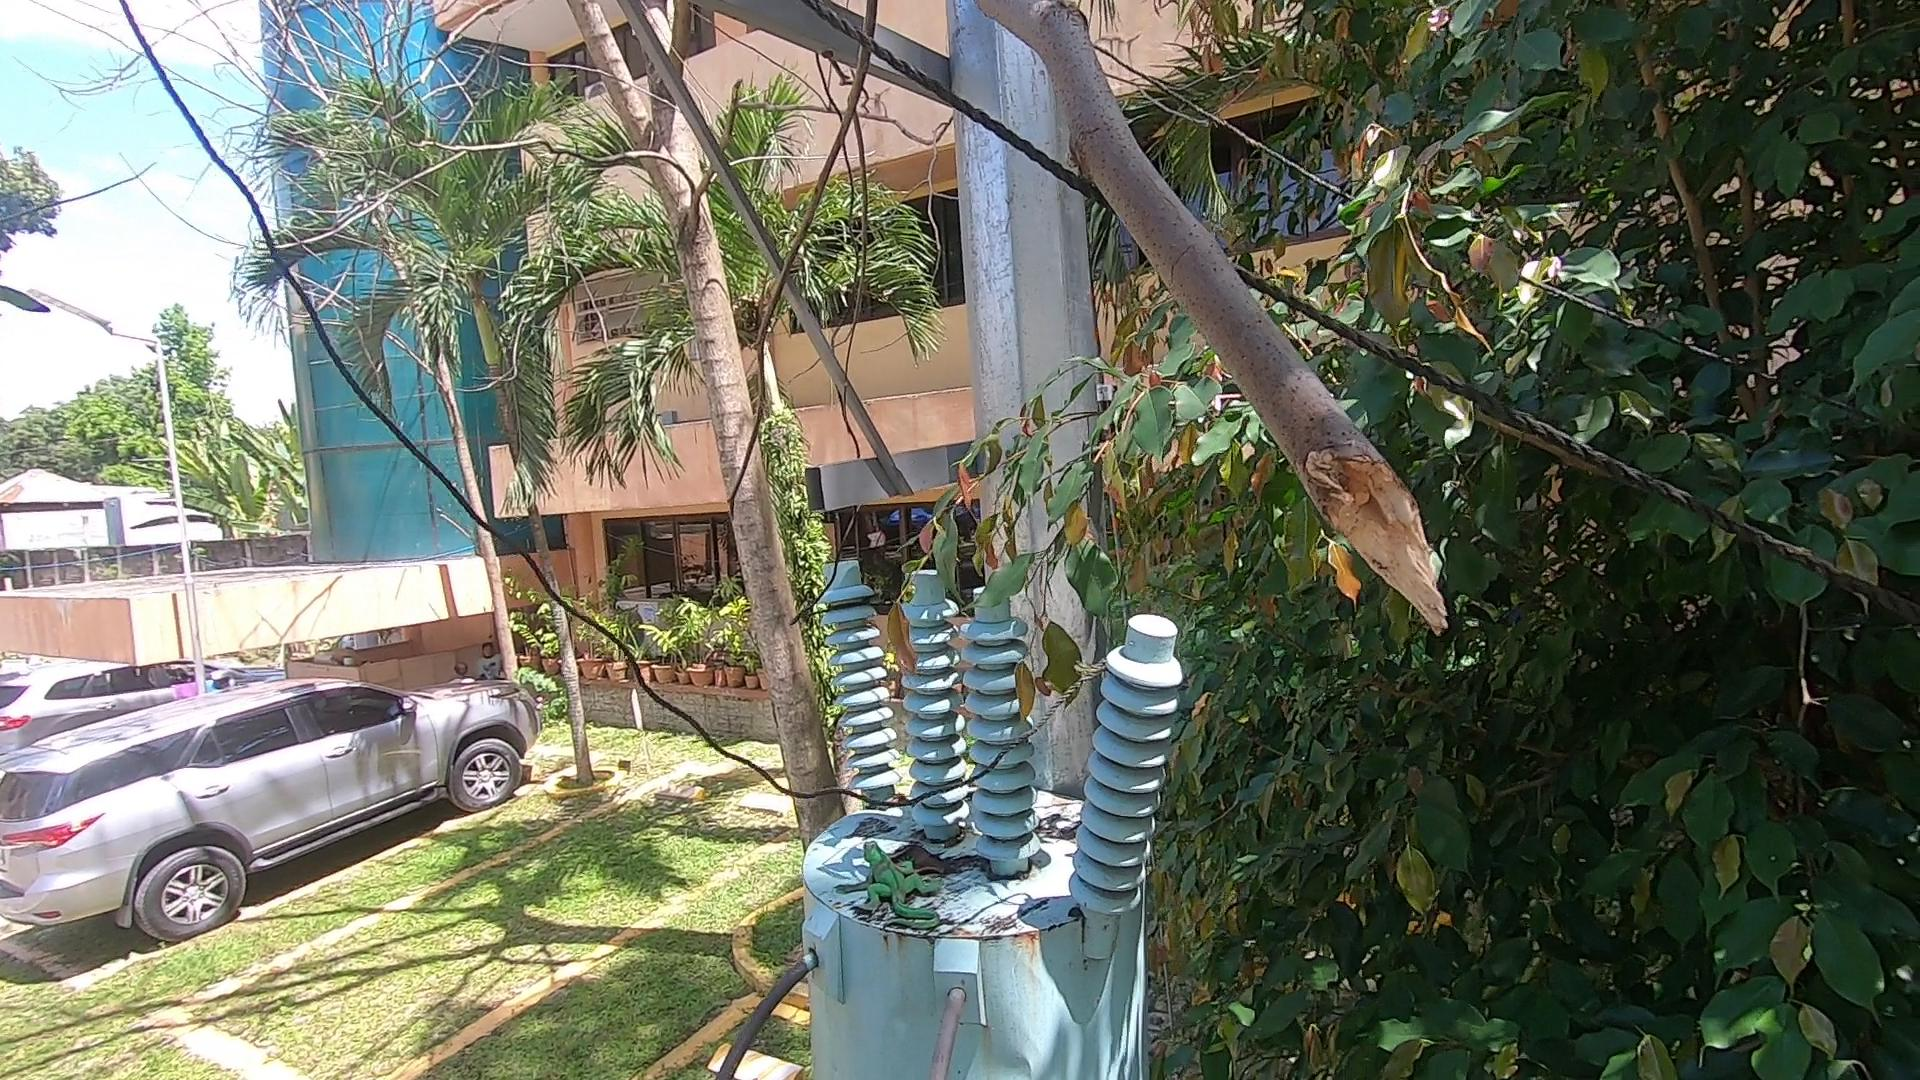branch with leaves: (851, 369, 1145, 725)
leaf: (874, 839, 997, 889), (1026, 808, 1081, 848), (869, 787, 919, 822)
tree branch: (909, 15, 1474, 680)
